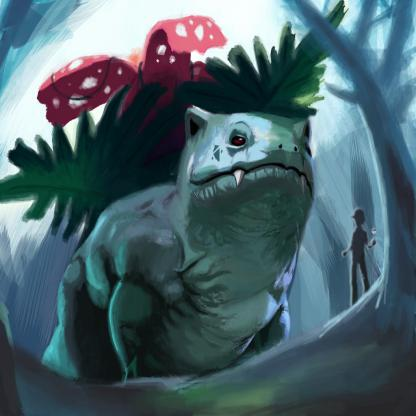Venusaur: (6, 15, 335, 391)
